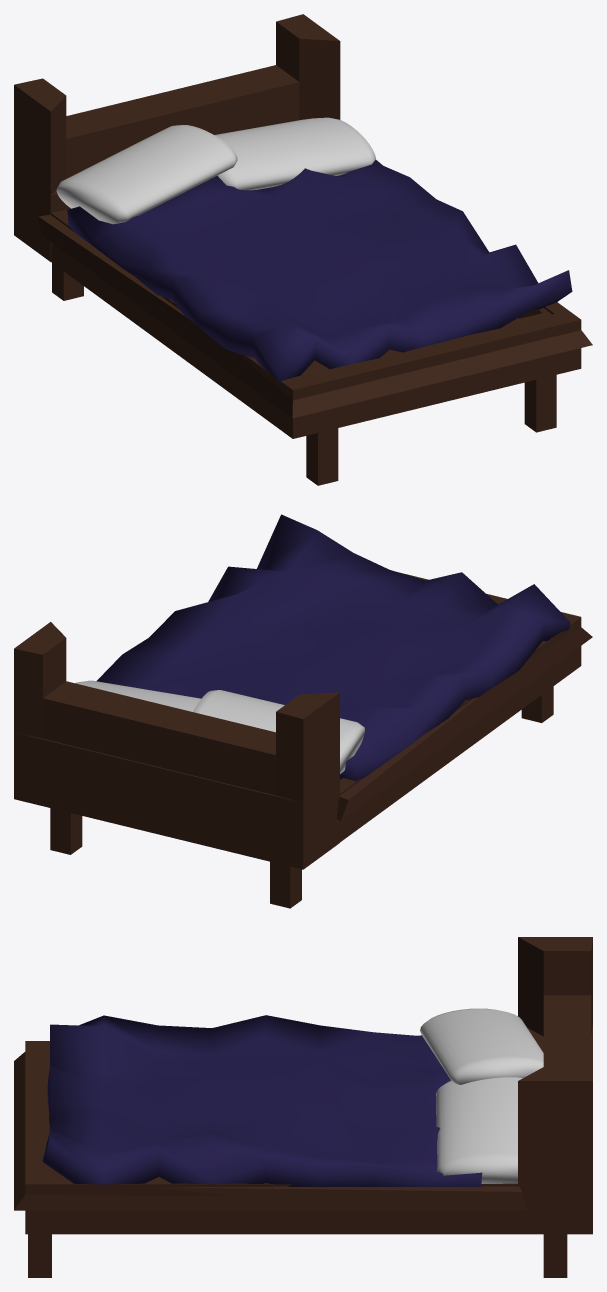
Rendered from toybedfinal.fbx.
3 renders of one model, top to bottom at view 1: azimuth 30°, elevation 25°; view 2: azimuth 150°, elevation 25°; view 3: azimuth 270°, elevation 25°, orthographic.
Visible parts, largest first — view 1: Plane.041, Cube.049, Cube.050, Cylinder.019, Cylinder.020, Cube.045, Cube.046, Cube.048; view 2: Plane.041, Cube.050, Cube.049, Cylinder.019, Cube.047, Cylinder.020, Cube.048, Cube.045; view 3: Plane.041, Cube.049, Cube.050, Cylinder.020, Cylinder.019, Cube.047, Cube.046.
Boxes of the visible parts, box(x1,y1,x2,y2) form: Plane.041: box(67, 160, 572, 383); Cube.049: box(38, 210, 592, 438); Cube.050: box(14, 14, 340, 261); Cylinder.019: box(56, 125, 237, 224); Cylinder.020: box(214, 117, 375, 190); Cube.045: box(306, 428, 338, 485); Cube.046: box(524, 375, 556, 432); Cube.048: box(52, 263, 83, 300); Plane.041: box(96, 514, 570, 781); Cube.050: box(14, 622, 339, 869); Cube.049: box(336, 572, 592, 842); Cylinder.019: box(193, 690, 364, 773); Cube.047: box(50, 808, 82, 854); Cylinder.020: box(75, 680, 200, 711); Cube.048: box(270, 861, 301, 908); Cube.045: box(521, 686, 553, 722); Plane.041: box(42, 1015, 482, 1186); Cube.049: box(14, 1041, 526, 1234); Cube.050: box(518, 937, 592, 1234); Cylinder.020: box(436, 1077, 522, 1183); Cylinder.019: box(420, 1008, 543, 1084); Cube.047: box(543, 1234, 567, 1277); Cube.046: box(28, 1234, 51, 1277).
Bounding box in the file's own units: 102 × 64.33 × 162.
